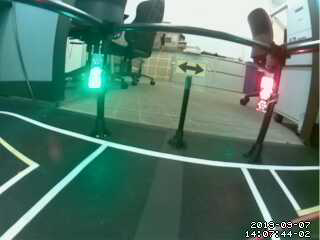Left_Right_sign: (174, 58, 210, 76)
Traffic_light_green: (89, 55, 104, 103)
Traffic_light_red: (253, 67, 279, 129)
